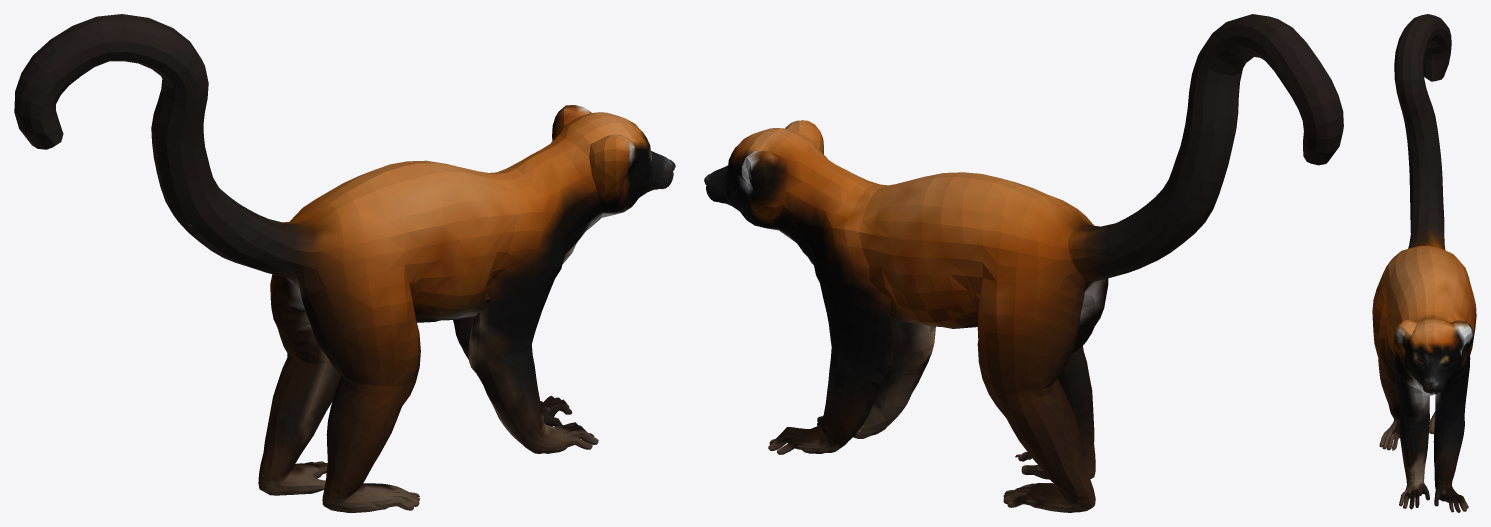
File: lemur.pred.glb
The picture shows the model from 3 angles, left to right: view 1: azimuth 30°, elevation 25°; view 2: azimuth 150°, elevation 25°; view 3: azimuth 270°, elevation 25°; orthographic projection. The views are drawn at different scales.
Parts seen in each view (by area): view 1: root; view 2: root; view 3: root.
Boxes of the visible parts, x1,y1,x2,y2 form: root: [14, 14, 675, 512]; root: [704, 14, 1343, 512]; root: [1372, 14, 1476, 512].
Bounding box in the file's own units: 0.5514 × 0.4318 × 0.1184.
1 material, 1 textured.
